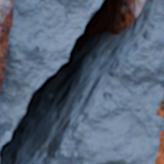brick: (0, 0, 13, 88), (156, 131, 163, 163), (158, 100, 163, 116)
crack: (0, 0, 162, 163)
